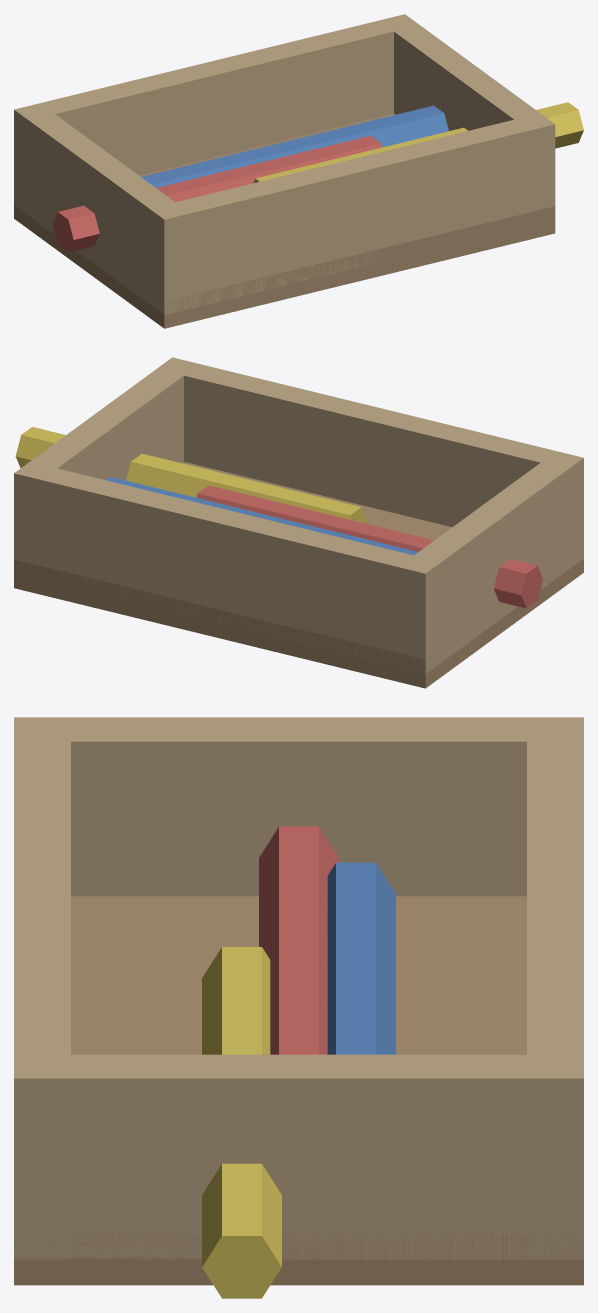
The model's file is kids_lapis.glb.
The picture shows the model from 3 angles, top to bottom: view 1: azimuth 30°, elevation 25°; view 2: azimuth 150°, elevation 25°; view 3: azimuth 270°, elevation 25°; orthographic projection. The views are drawn at different scales.
Visible parts, largest first — view 1: KIDS_LAPIS_v01; view 2: KIDS_LAPIS_v01; view 3: KIDS_LAPIS_v01.
Part boxes in pixels (<box>): KIDS_LAPIS_v01: <box>14,14,583,328</box>; KIDS_LAPIS_v01: <box>14,357,583,688</box>; KIDS_LAPIS_v01: <box>14,717,583,1298</box>.
Size of the model in its own units: 0.38 by 0.08 by 0.2.
